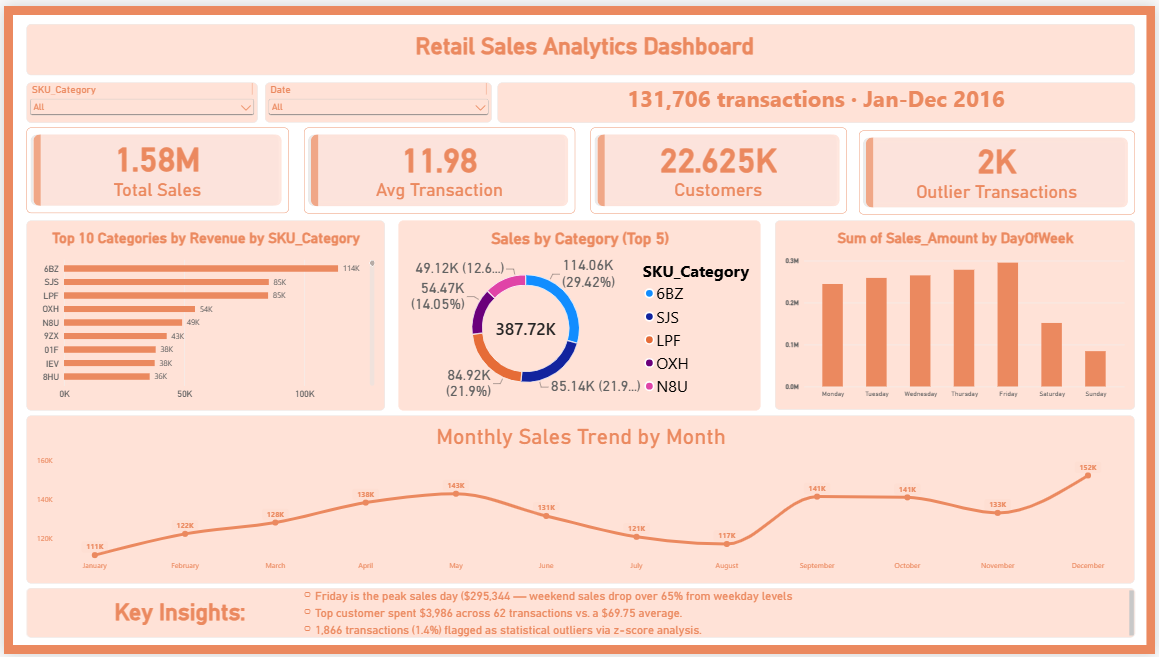

Layout of this report page (visuals, bound fields, positions):
{"tool":"powerbi","page":{"name":"Page 1","canvas":[1920,1080],"ordinal":0},"visuals":[{"type":"shape","title":"Total Sales","box":[0,0,1919.1,1080],"z":0},{"type":"cardVisual","title":"Total Sales","fields":{"Data":["Sum(scanner_data_cleaned.Sales_Amount)"]},"box":[37.5,202.5,437.5,142.5],"z":1000},{"type":"cardVisual","title":"Total Sales","fields":{"Data":["Avg(scanner_data_cleaned.Sales_Amount)"]},"box":[500,202.7,452,143],"z":2000},{"type":"cardVisual","title":"Total Sales","fields":{"Data":["scanner_data_cleaned.Outlier Count"]},"box":[1425,207.5,460,140],"z":3000},{"type":"cardVisual","title":"Total Sales","fields":{"Data":["Count(scanner_data_cleaned.Customer_ID)"]},"box":[977.3,202.7,427.2,143.4],"z":4000},{"type":"lineChart","fields":{"Y":["Sum(scanner_data_cleaned.Sales_Amount)"],"Category":["scanner_data_cleaned.Date.Variation.Date Hierarchy.Month"]},"box":[37.3,683.6,1846.7,280],"z":5000},{"type":"donutChart","title":"Sales by Category (Top 5)","fields":{"Category":["scanner_data_cleaned.SKU_Category"],"Y":["Sum(scanner_data_cleaned.Sales_Amount)"]},"box":[657.3,357.3,603.5,316.7],"z":6000},{"type":"clusteredColumnChart","fields":{"Category":["scanner_data_cleaned.DayOfWeek"],"Y":["Sum(scanner_data_cleaned.Sales_Amount)"]},"box":[1285,357.5,600,315],"z":7000},{"type":"clusteredBarChart","fields":{"Category":["scanner_data_cleaned.SKU_Category"],"Y":["Sum(scanner_data_cleaned.Sales_Amount)"]},"box":[38.2,358.2,597.5,316.7],"z":8000},{"type":"slicer","fields":{"Values":["scanner_data_cleaned.SKU_Category"]},"box":[37.5,127.5,385,67.5],"z":9000},{"type":"textbox","box":[822.5,127.5,1062.5,67.5],"z":10000},{"type":"slicer","fields":{"Values":["scanner_data_cleaned.Date"]},"box":[434.5,128.2,378.2,66.4],"z":11000},{"type":"textbox","box":[37.5,30,1847.5,85],"z":12000},{"type":"textbox","box":[37.5,970,1847.5,82.5],"z":13000},{"type":"textbox","box":[100,987.5,335,45],"z":14000}]}

Visuals, with their boxes in screenshot pixels (x1, y1, x2, y2), scaled from the page's 1920x1080 canvas onto the 1159x657 screenshot:
"Total Sales" shape: [0,0,1158,656]
"Total Sales" cardVisual: [23,123,287,210]
"Total Sales" cardVisual: [302,123,575,210]
"Total Sales" cardVisual: [860,126,1138,211]
"Total Sales" cardVisual: [590,123,848,211]
lineChart - Sum(scanner_data_cleaned.Sales_Amount) x scanner_data_cleaned.Date.Variation.Date Hierarchy.Month: [23,416,1137,586]
"Sales by Category (Top 5)" donutChart: [397,217,761,410]
clusteredColumnChart - scanner_data_cleaned.DayOfWeek x Sum(scanner_data_cleaned.Sales_Amount): [776,217,1138,409]
clusteredBarChart - scanner_data_cleaned.SKU_Category x Sum(scanner_data_cleaned.Sales_Amount): [23,218,384,411]
slicer - scanner_data_cleaned.SKU_Category: [23,78,255,119]
textbox: [496,78,1138,119]
slicer - scanner_data_cleaned.Date: [262,78,491,118]
textbox: [23,18,1138,70]
textbox: [23,590,1138,640]
textbox: [60,601,263,628]
